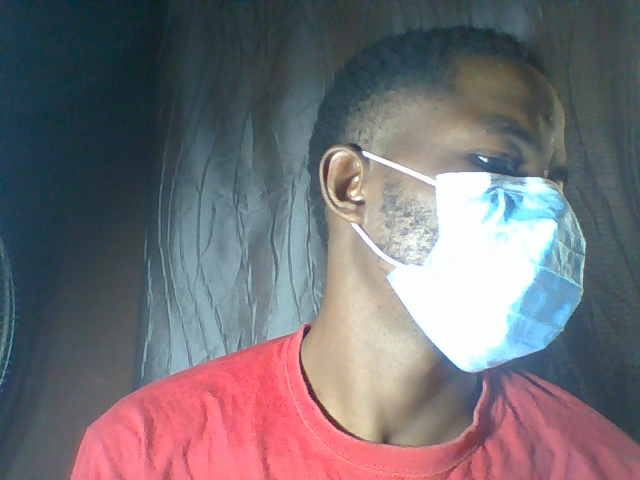MaskOn: (307, 21, 590, 389)
